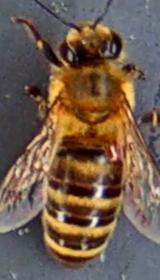varroa_mite: (94, 131, 136, 162)
